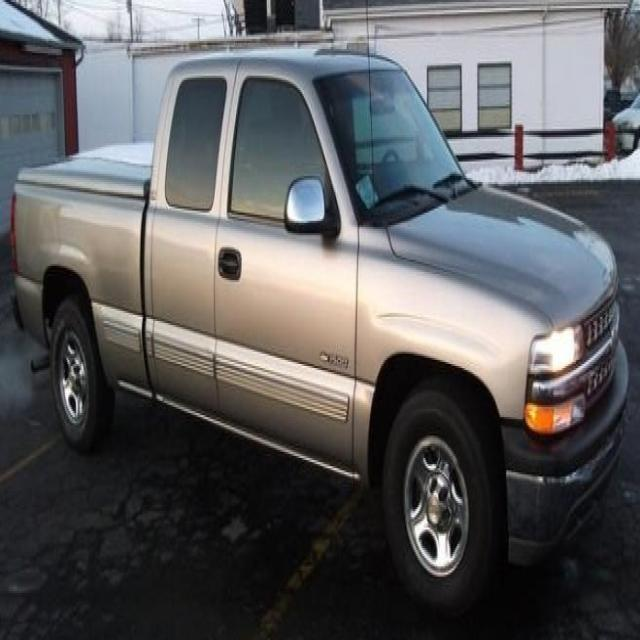CMT: (19, 37, 640, 634)
